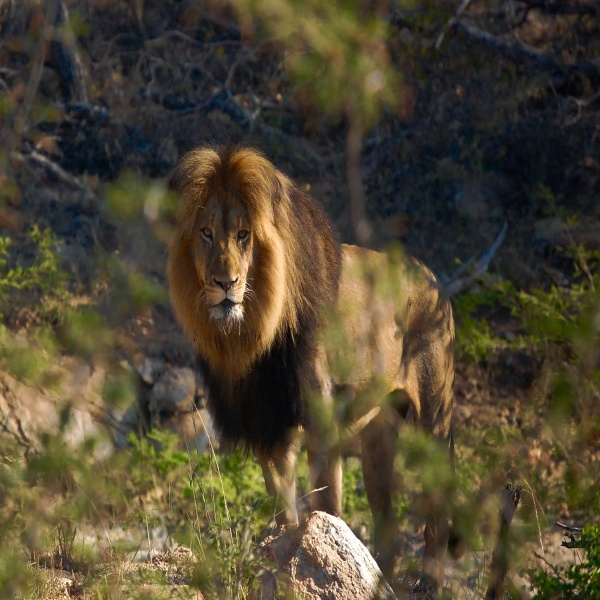Lion: (161, 144, 460, 567)
